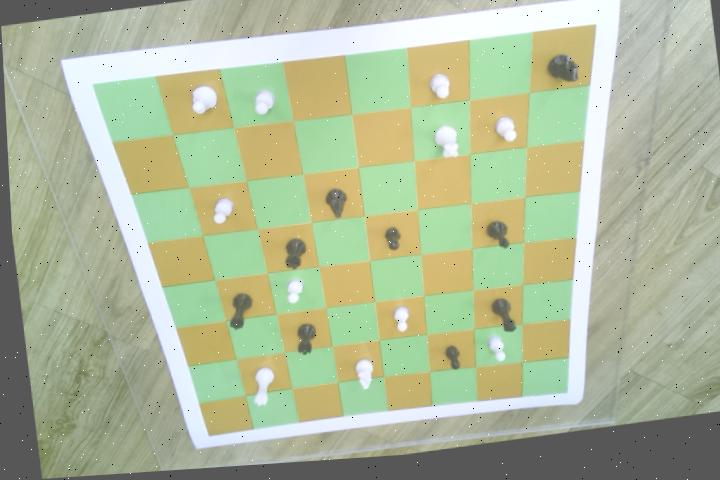chessboard-detect: (90, 29, 594, 439)
